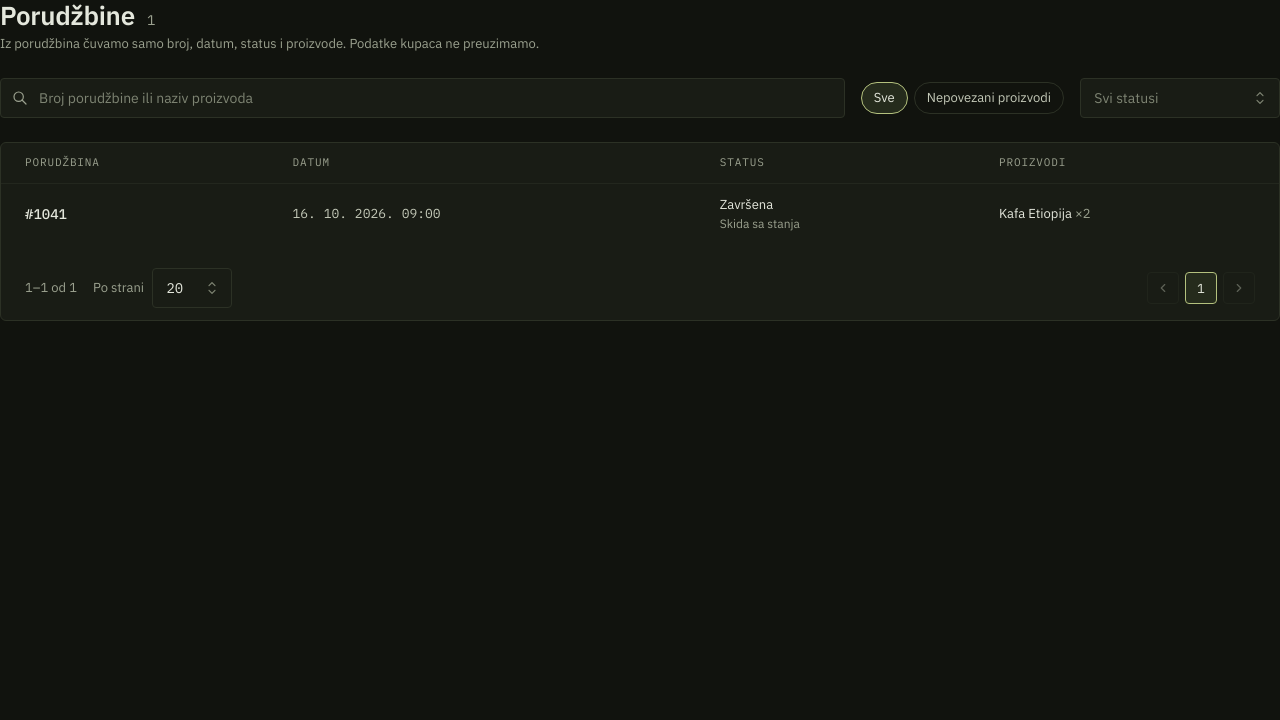
Test case: OrdersPage › Row_OpenedForOrderPlacedBeforeLinking_ExplainsWhyNoStockWasTaken
Click the button named "Otvori porudžbinu 1041". click: [46, 214]
box: [25,204,67,224]
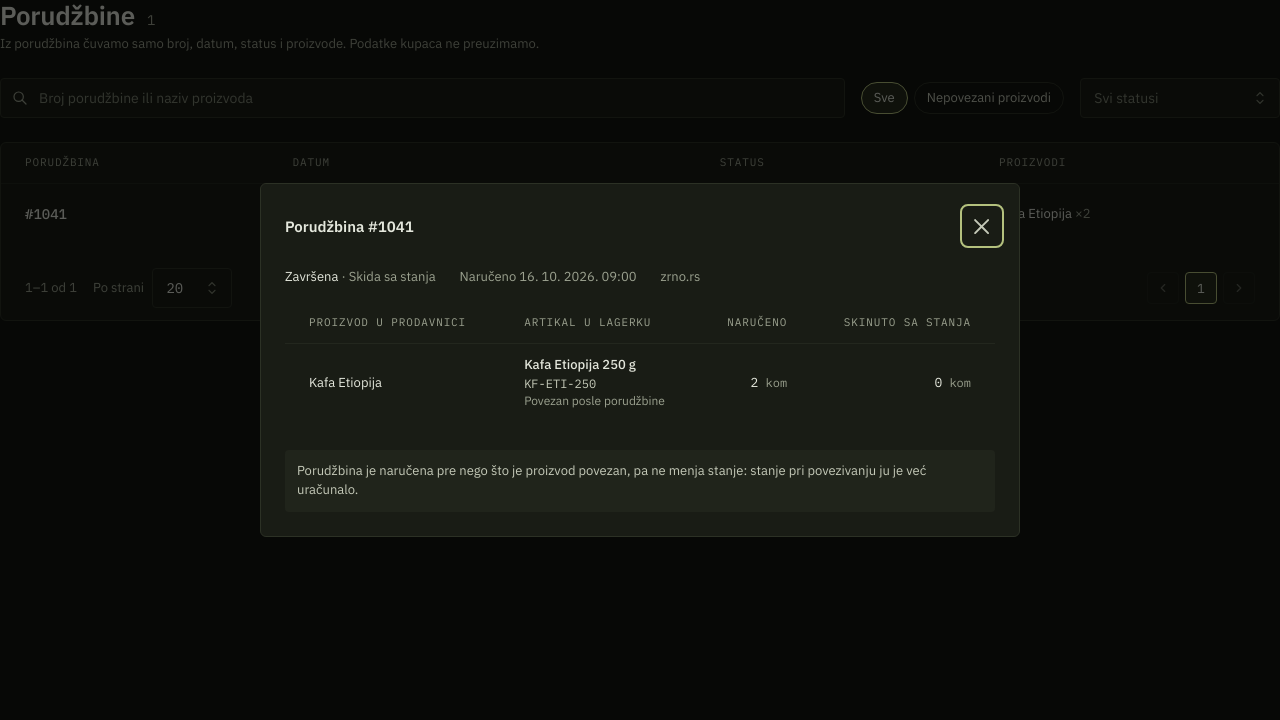
Now the text "Povezan posle porudžbine" is shown, box [524,392,674,410]
Now the text "stanje pri povezivanju ju je već uračunalo" is shown, box [297,462,926,498]
